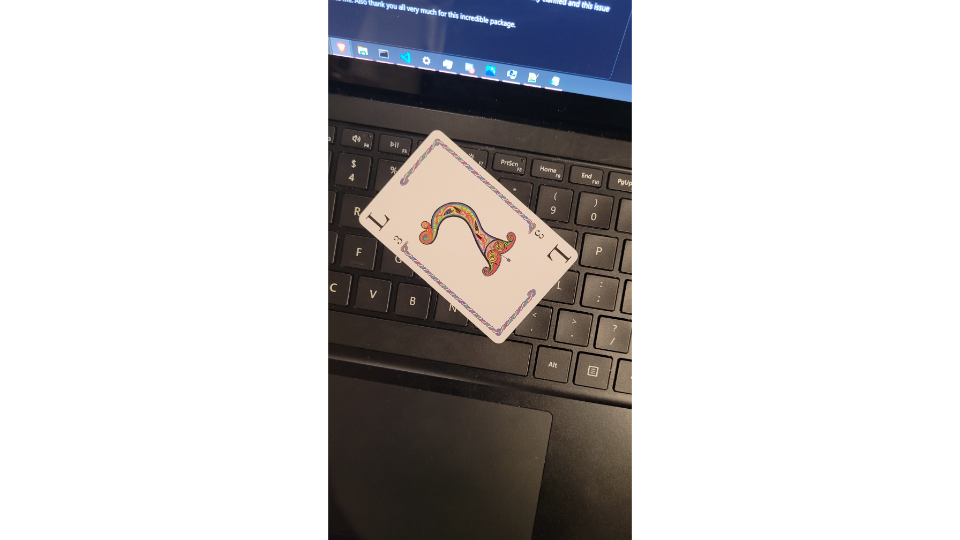L: (357, 125, 583, 348)
